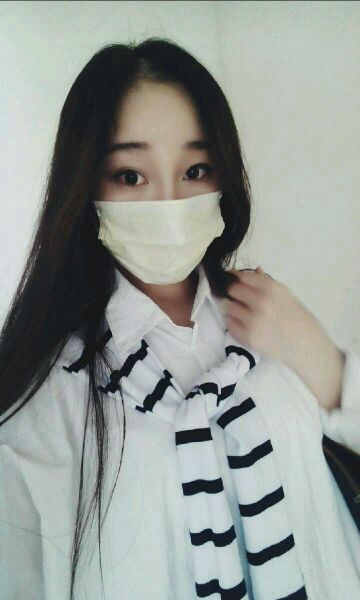face_mask: (101, 92, 219, 277)
